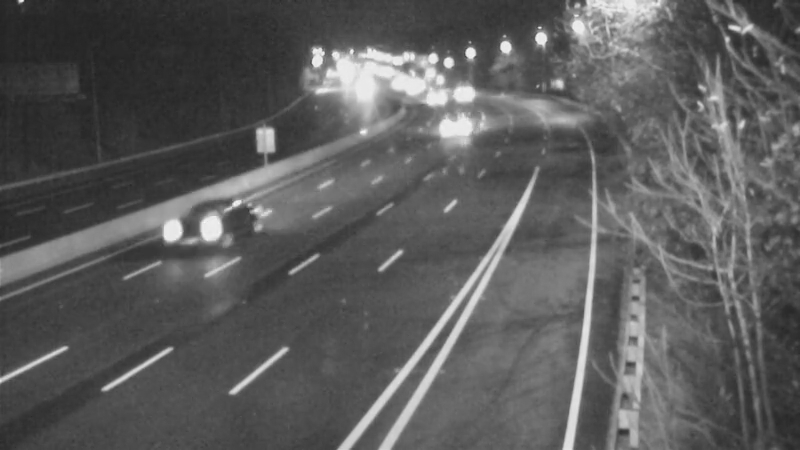vehicle: (155, 191, 235, 271), (436, 67, 486, 117), (405, 72, 455, 122), (433, 100, 483, 150), (337, 64, 387, 114)
